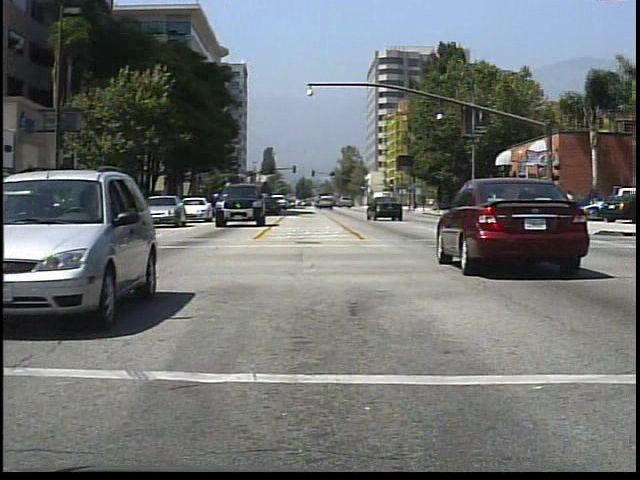person: (561, 188, 581, 233), (514, 190, 532, 227)
